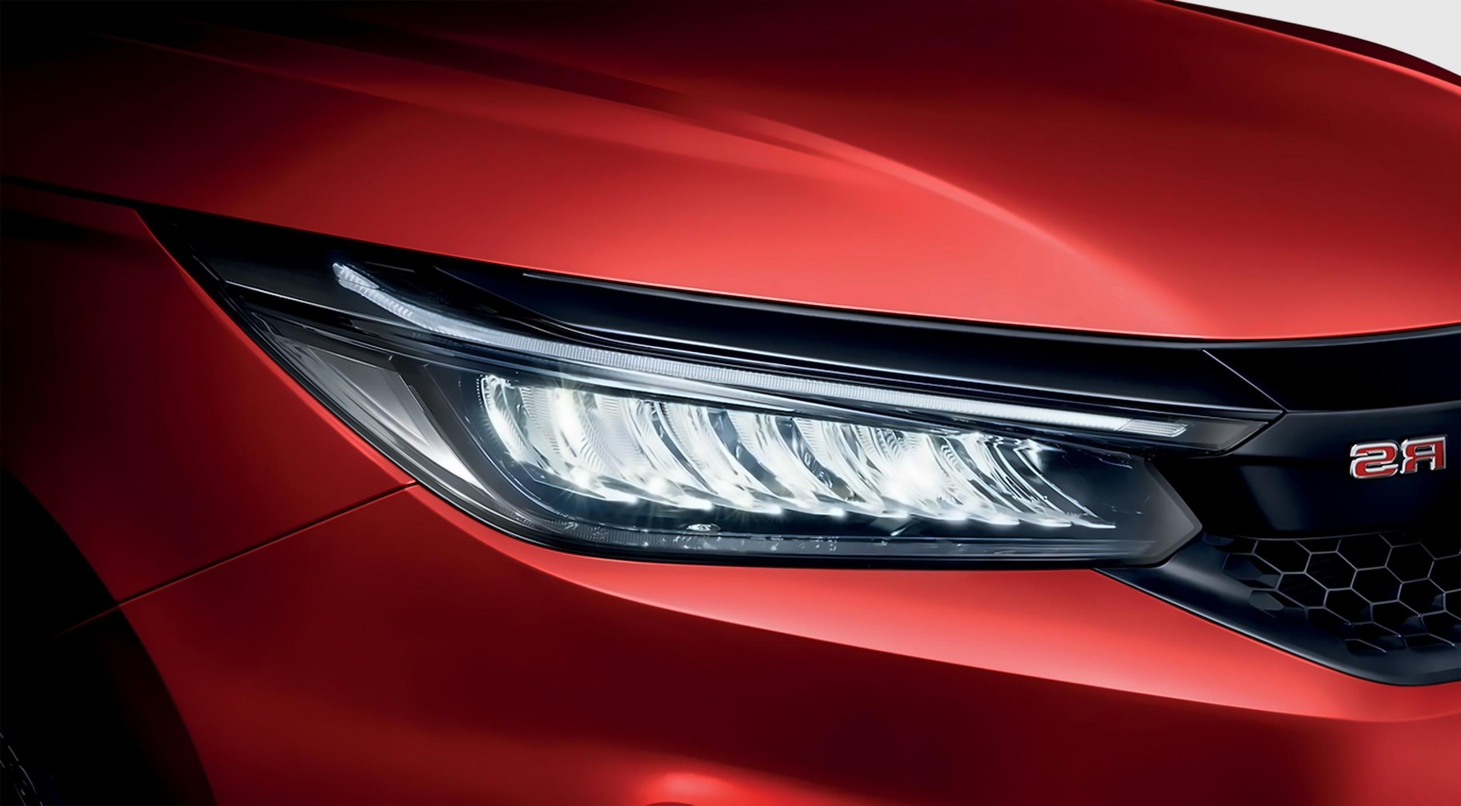Car hood: (0, 0, 1461, 353)
Front bumper: (55, 467, 1461, 806)
Headlight - -R-: (132, 196, 1302, 583)
